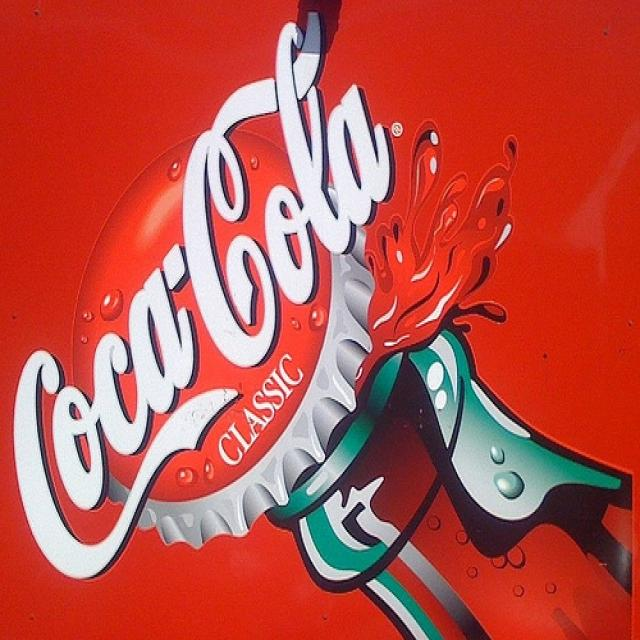cocacola: (3, 3, 406, 601)
